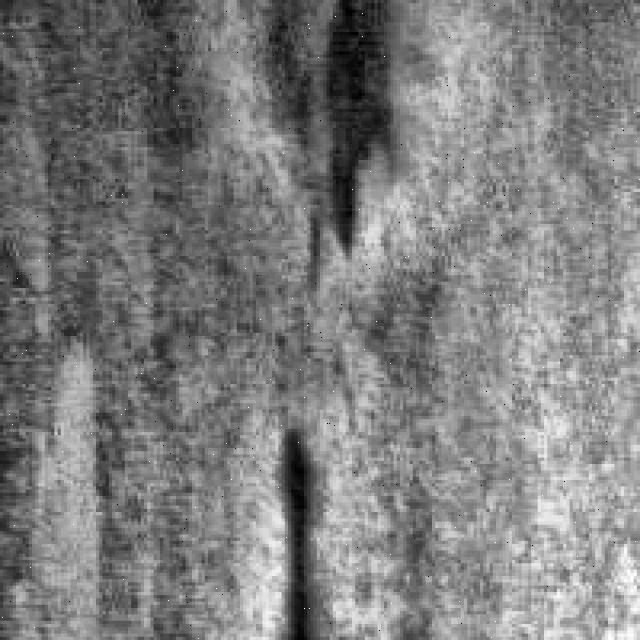Patches: (307, 0, 429, 272), (269, 412, 333, 634)
